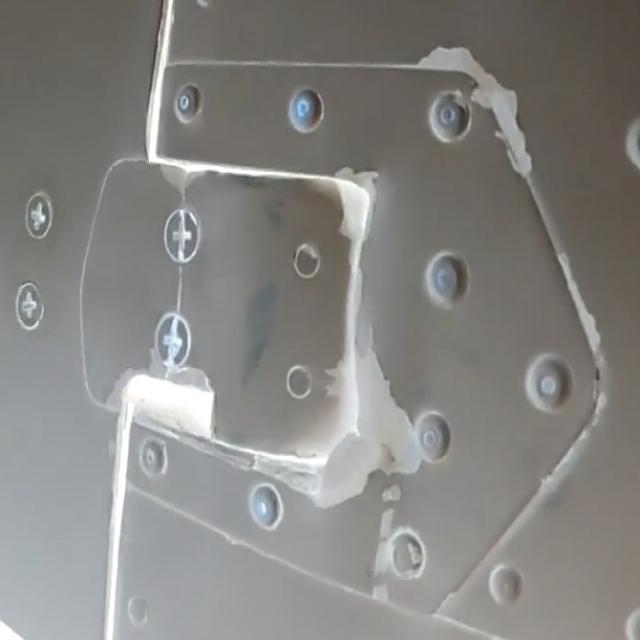dent: (417, 48, 601, 356), (270, 169, 422, 511), (103, 375, 213, 640)
